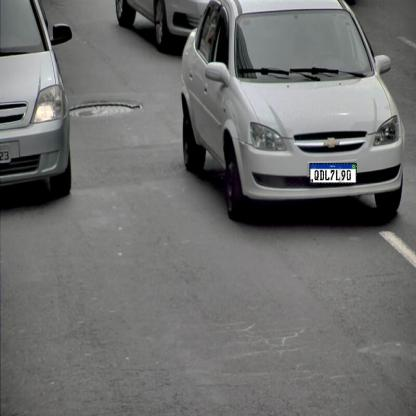PlacaM: (309, 163, 357, 184)
